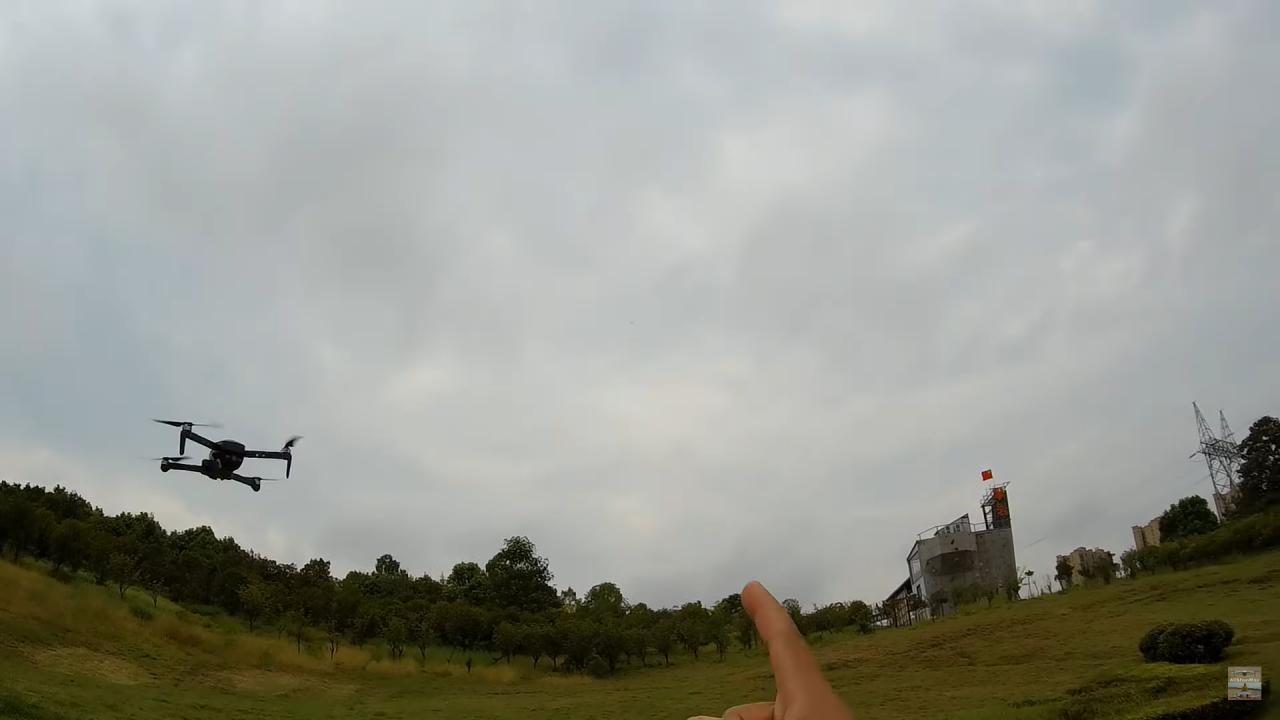Drone: (134, 410, 304, 502)
